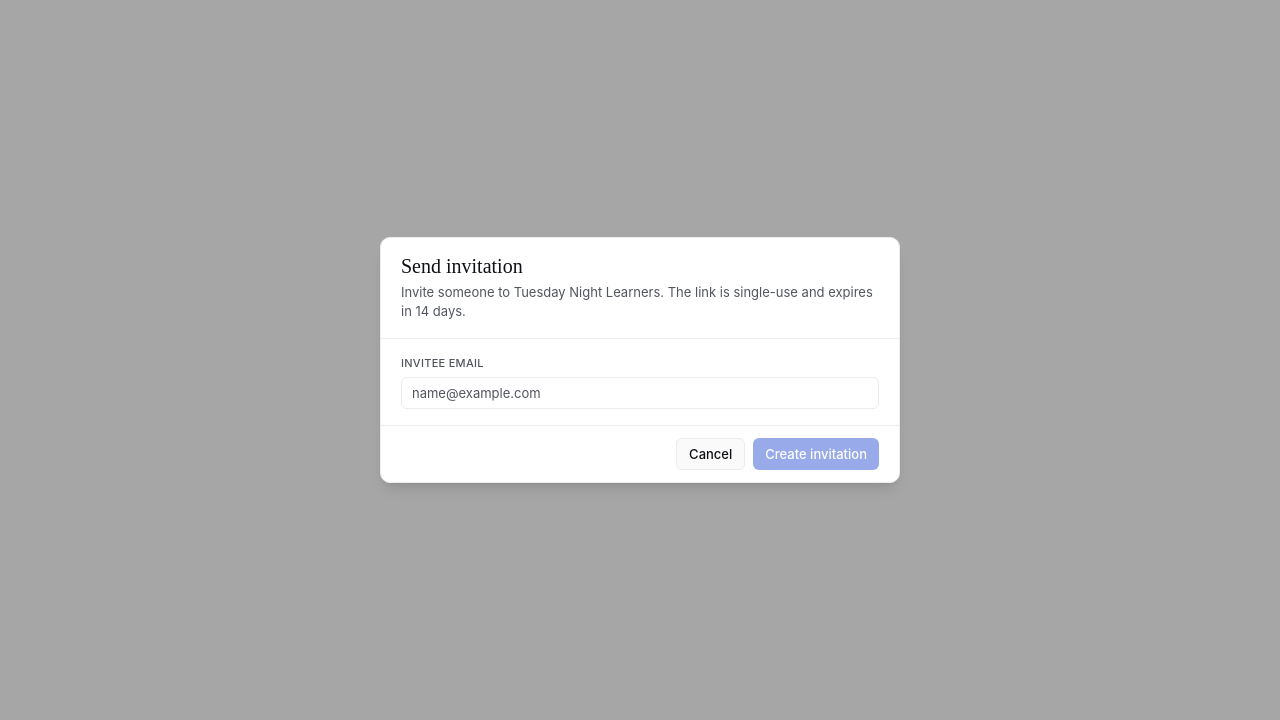
Test: InviteDialog result phase › toggles to the result phase with the readonly link on a successful create
The image size is (1280, 720).
Type "newbie@example.com" into the field labelled "Invitee email". click: (640, 393)
box: [401,377,879,409]
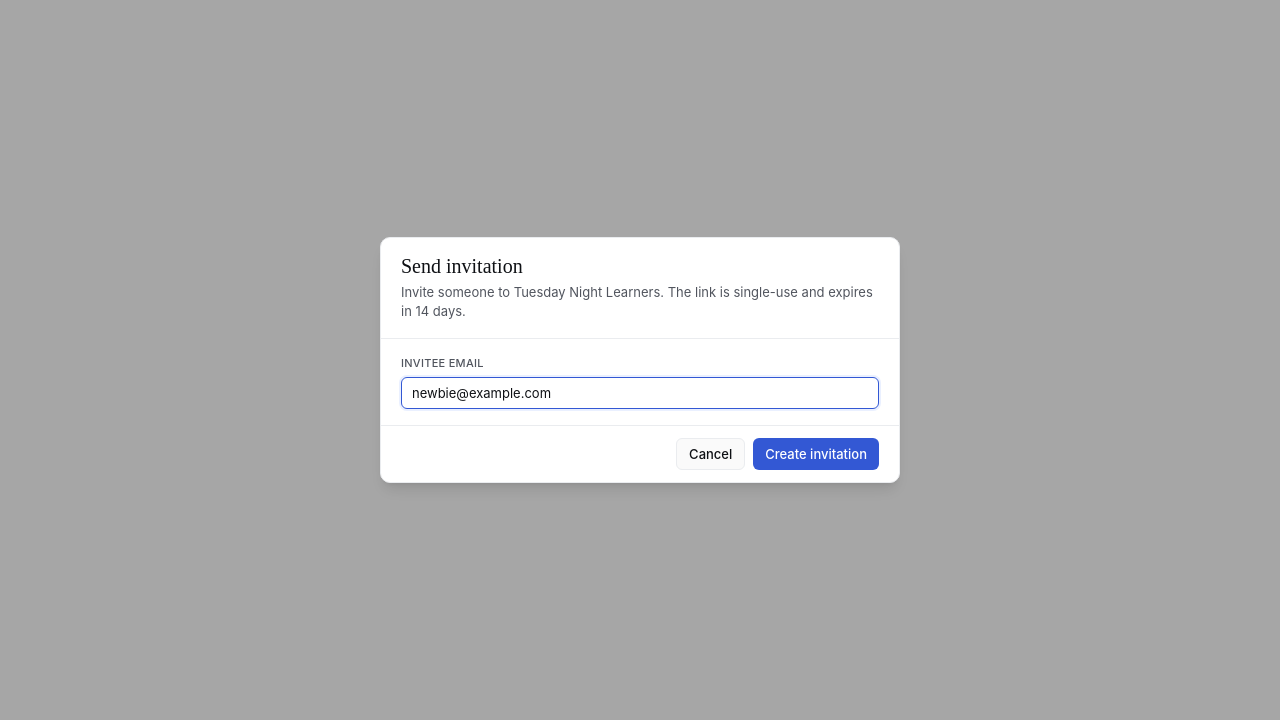
Click the button "Create invitation". click: (816, 454)
box: [753,438,879,470]
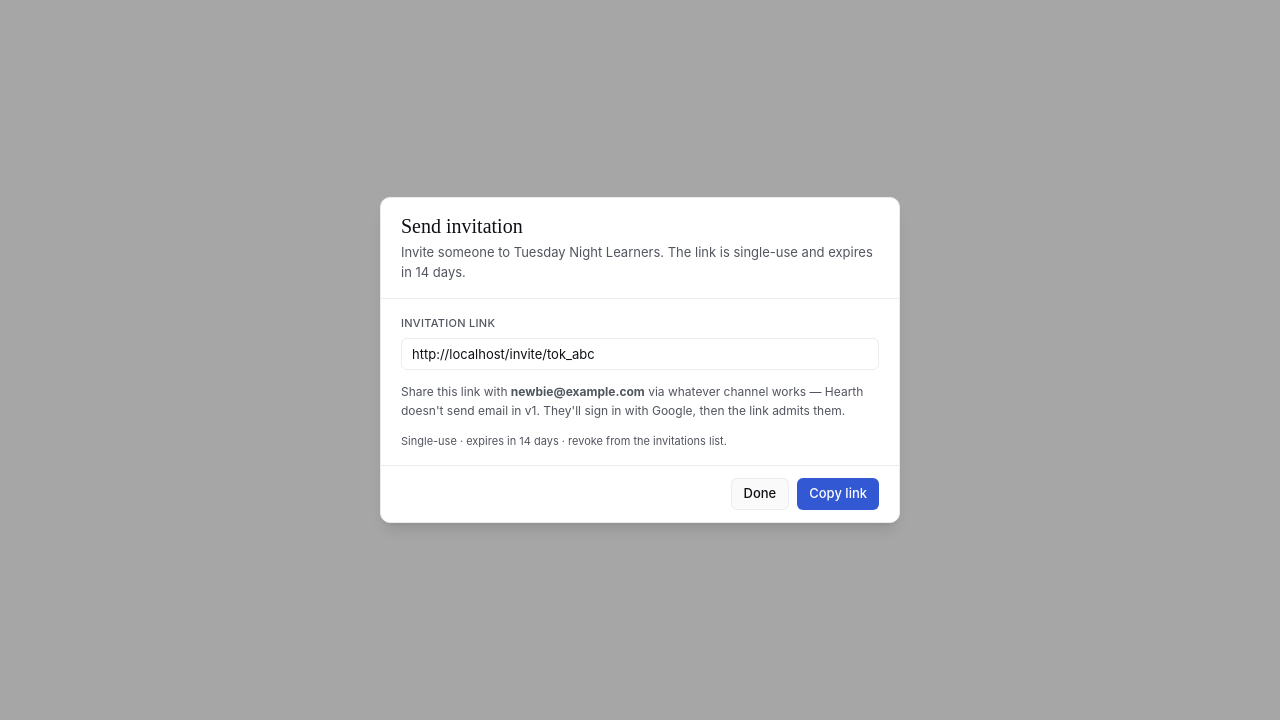
Expected: the button "Copy link" is shown, [797,478,879,510]
